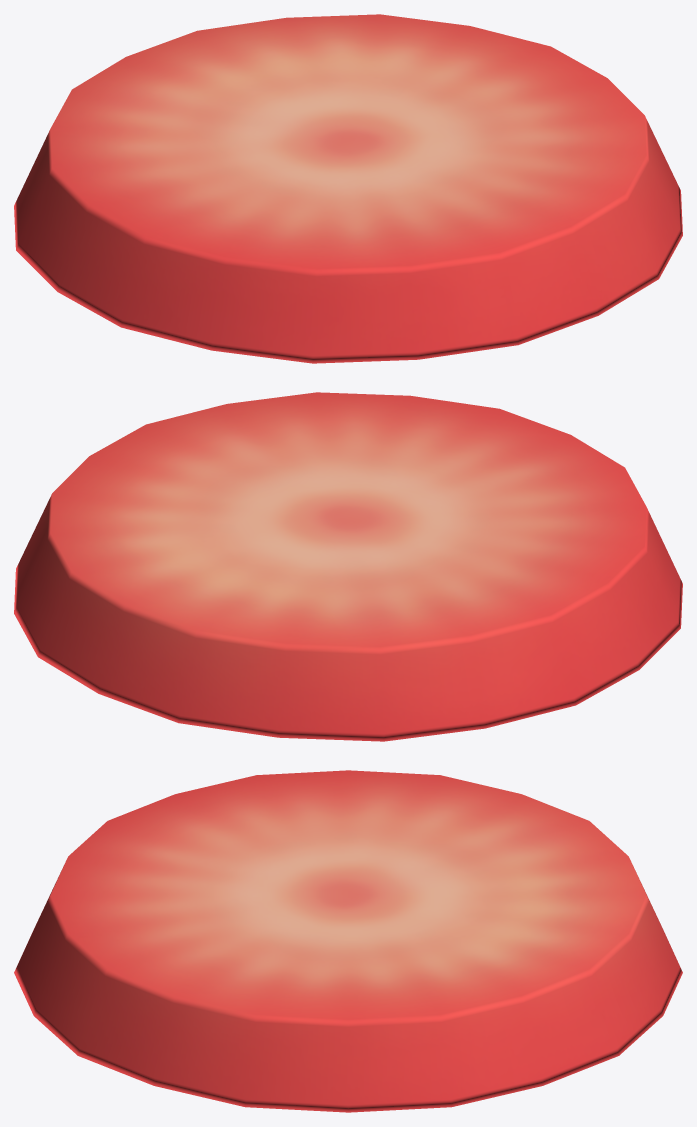
The model's file is Strawberry_top.fbx.
3 renders of one model, top to bottom at view 1: azimuth 30°, elevation 25°; view 2: azimuth 150°, elevation 25°; view 3: azimuth 270°, elevation 25°, orthographic.
Parts seen in each view (by area): view 1: wagiri_maru; view 2: wagiri_maru; view 3: wagiri_maru.
Boxes of the visible parts, x1=… form: wagiri_maru: x1=14, y1=14, x2=682, y2=363; wagiri_maru: x1=14, y1=392, x2=682, y2=741; wagiri_maru: x1=14, y1=770, x2=682, y2=1112.
Bounding box in the file's own units: 91.29 × 11.85 × 92.27.
1 material, 1 textured.
